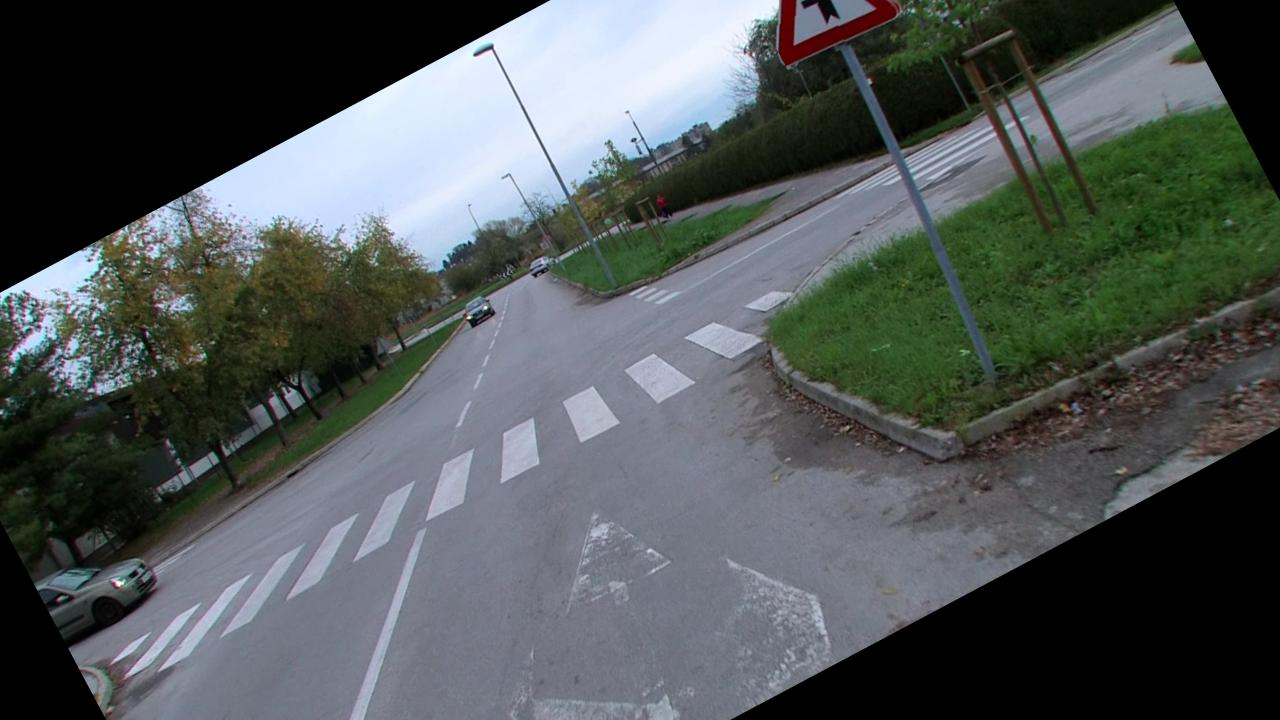Triangle: (727, 0, 905, 75)
